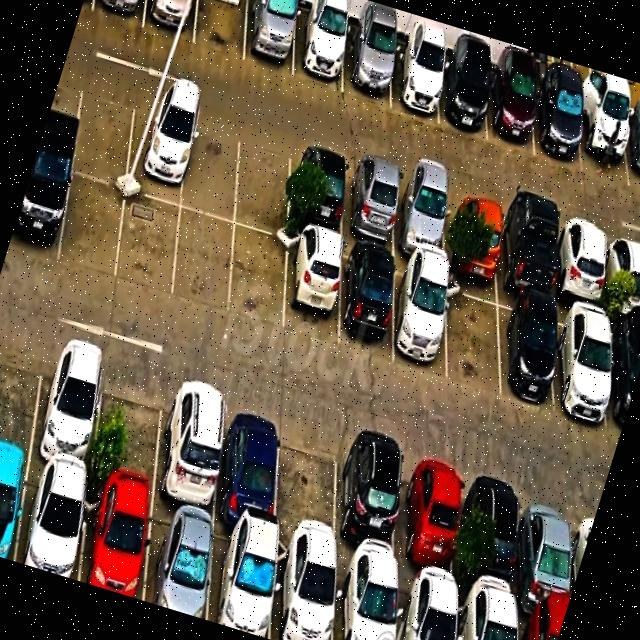empty: (91, 355, 166, 500), (275, 412, 339, 555), (58, 173, 126, 279), (71, 76, 136, 186), (116, 191, 180, 299), (172, 208, 234, 314), (180, 111, 239, 221), (234, 126, 291, 239), (446, 277, 500, 395), (0, 322, 46, 458), (228, 226, 286, 331), (193, 0, 248, 61)
occupied: (29, 335, 105, 479), (154, 374, 226, 518), (215, 392, 282, 534), (337, 429, 402, 574), (398, 446, 458, 592), (15, 463, 87, 580), (79, 483, 150, 600), (143, 502, 213, 620), (207, 522, 275, 639), (466, 465, 521, 608), (125, 93, 191, 206), (519, 481, 572, 621), (283, 228, 342, 346), (7, 156, 72, 263), (554, 303, 609, 425), (270, 540, 334, 640), (338, 243, 393, 359), (393, 259, 446, 379), (498, 291, 553, 406), (289, 142, 346, 237), (500, 202, 552, 300), (334, 561, 396, 640), (344, 157, 396, 251), (448, 187, 498, 282), (395, 171, 445, 264), (292, 7, 346, 92), (578, 96, 628, 187), (557, 217, 604, 310), (534, 79, 581, 171), (487, 66, 535, 155), (438, 55, 487, 140), (244, 0, 296, 77), (390, 40, 438, 123), (342, 27, 391, 106), (608, 317, 640, 434), (396, 576, 454, 640), (0, 455, 29, 561), (606, 231, 640, 320), (457, 593, 515, 640), (143, 0, 198, 43), (622, 108, 640, 190), (92, 0, 146, 27), (517, 609, 563, 640)
